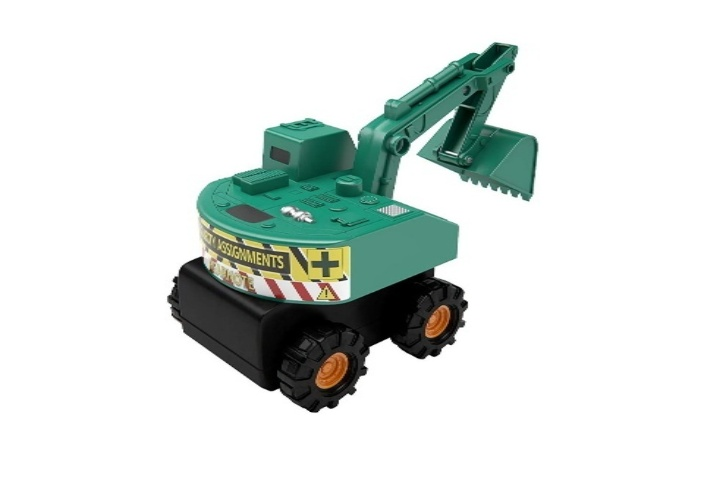industrial: (130, 21, 559, 401)
